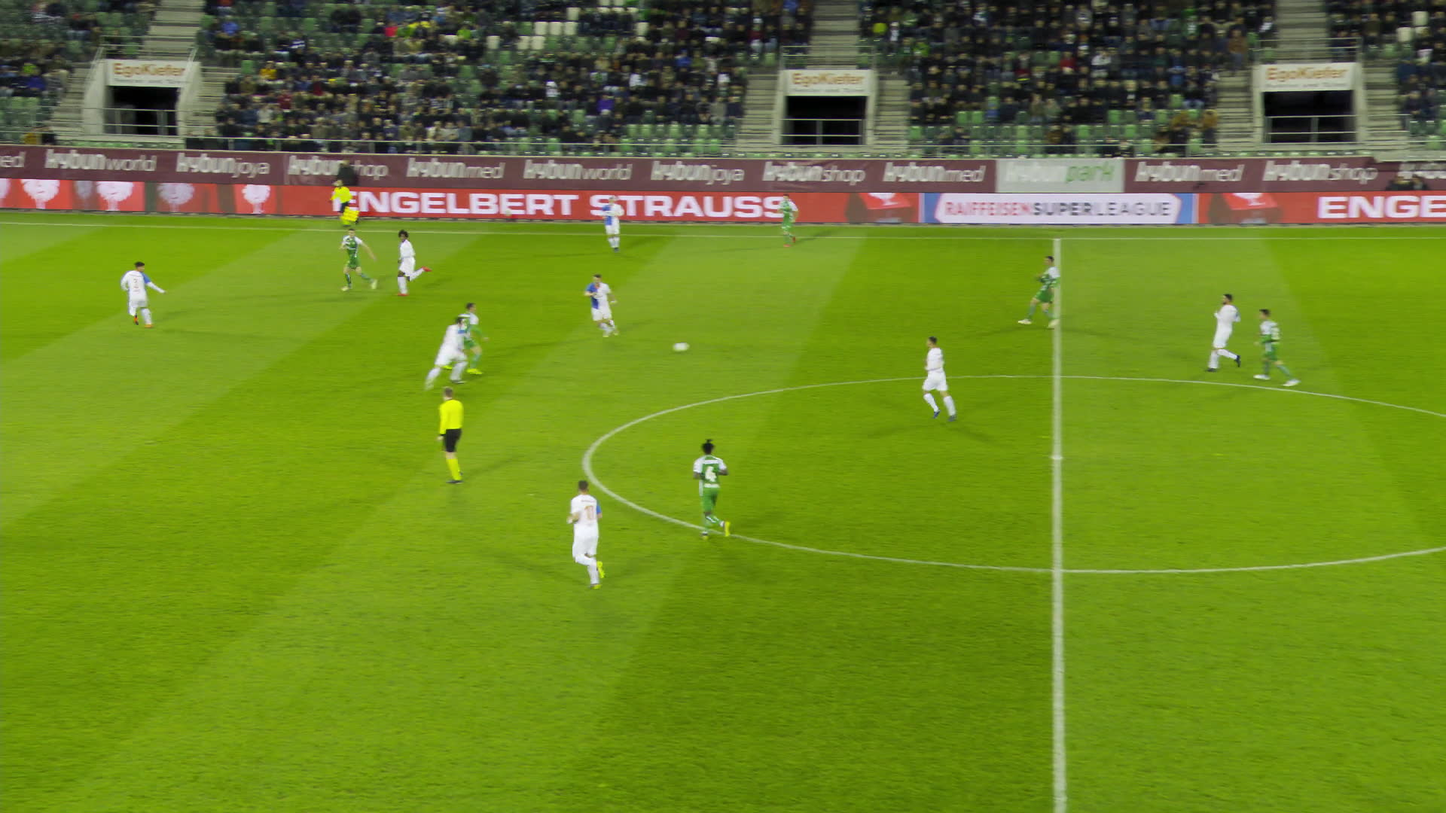ball: (691, 341, 706, 350)
player: (566, 476, 619, 589), (689, 433, 727, 542), (917, 336, 964, 419), (426, 317, 473, 389), (119, 258, 167, 328), (1250, 303, 1289, 385), (394, 228, 437, 294), (581, 273, 623, 338), (333, 230, 380, 288), (1208, 290, 1237, 374), (449, 301, 487, 362), (1024, 257, 1057, 327), (771, 192, 798, 247), (597, 200, 626, 251)
referee: (430, 386, 475, 484), (329, 178, 358, 227)
